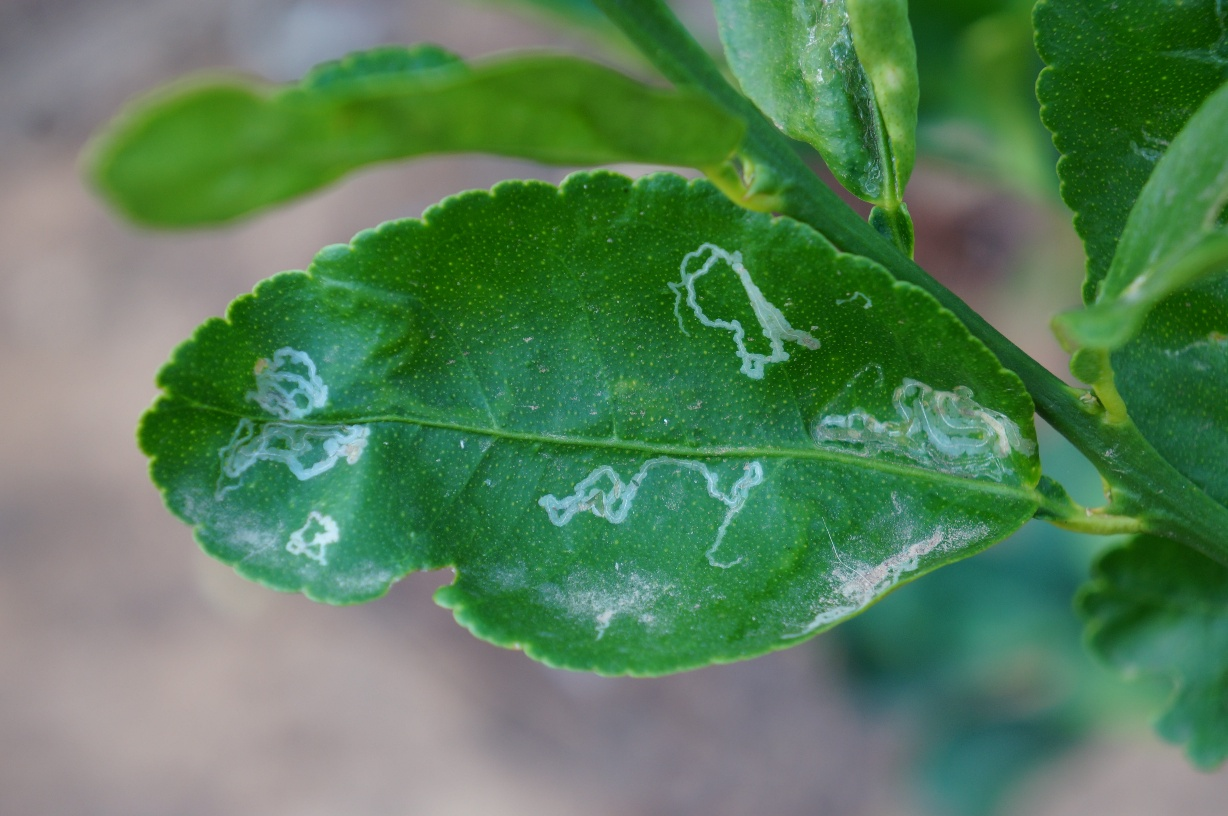damage: (532, 439, 767, 573), (642, 236, 838, 385), (203, 345, 379, 504), (807, 373, 1037, 493), (283, 512, 354, 570)
